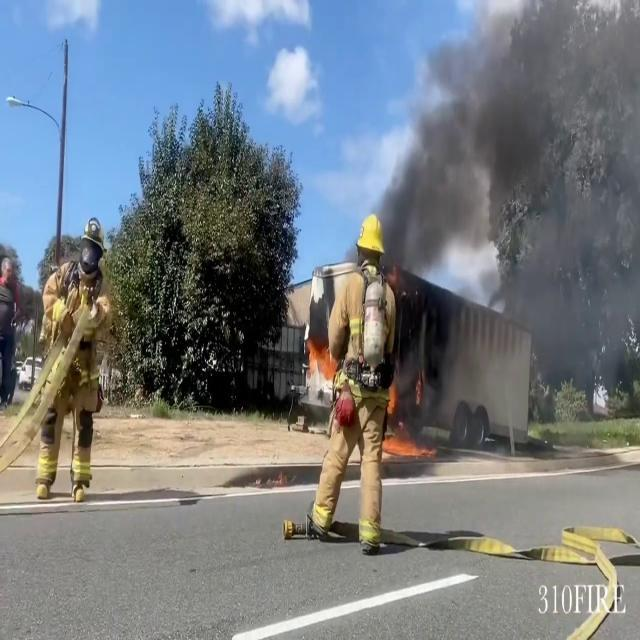Smoke: (378, 0, 639, 308)
